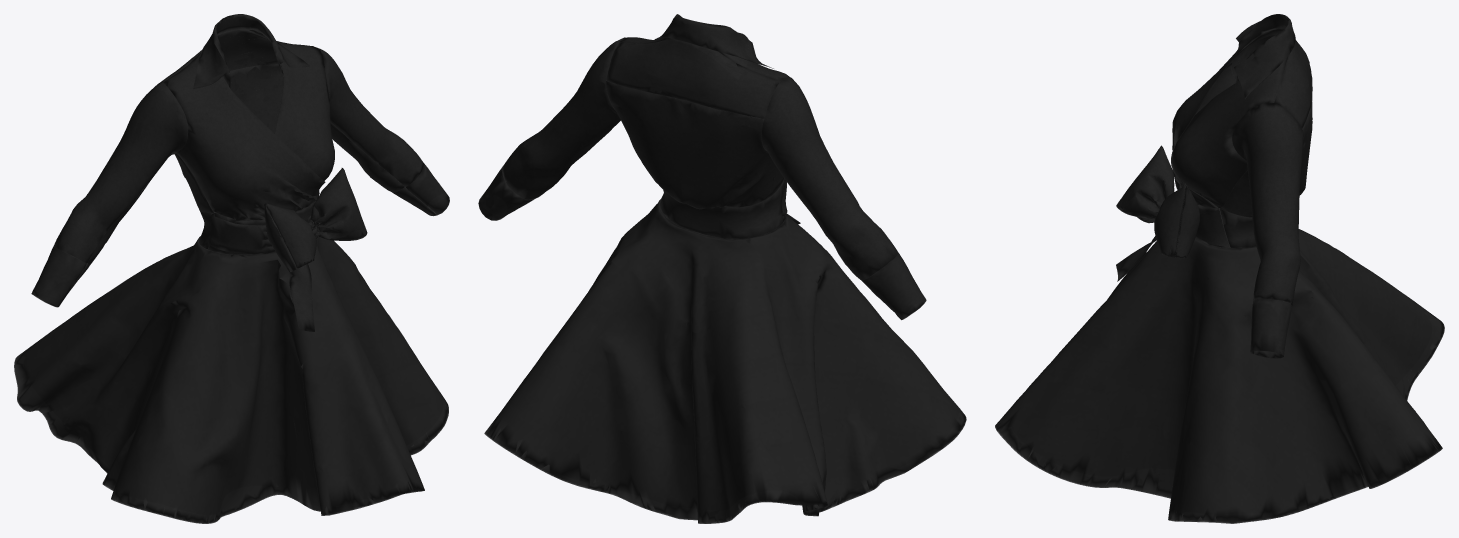
File: black_dress.glb
3 renders of one model, left to right at view 1: azimuth 30°, elevation 25°; view 2: azimuth 150°, elevation 25°; view 3: azimuth 270°, elevation 25°, orthographic. The views are drawn at different scales.
Parts seen in each view (by area): view 1: black_dress; view 2: black_dress; view 3: black_dress.
Part boxes in pixels (x1,y1,x2,y2): black_dress: [14, 14, 449, 523]; black_dress: [478, 14, 966, 523]; black_dress: [995, 14, 1444, 523].
Size of the model in its own units: 1.04 by 1.06 by 0.9564.
Materials: 1 (1 with a texture image).
